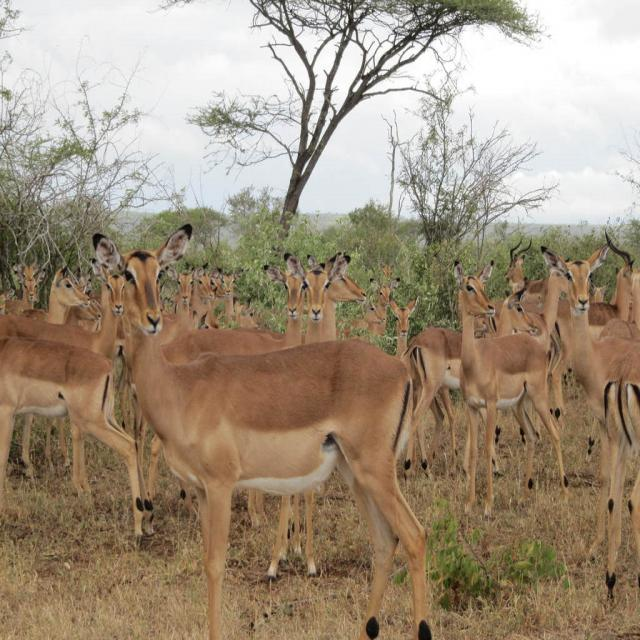Deer: (93, 222, 436, 638), (147, 251, 343, 582), (541, 244, 640, 601), (0, 261, 136, 507), (0, 324, 148, 546), (449, 260, 571, 522), (404, 289, 537, 471), (159, 261, 308, 367), (504, 240, 585, 306), (0, 269, 92, 325), (339, 274, 402, 344), (214, 264, 276, 332), (0, 259, 45, 324), (387, 285, 420, 361)
